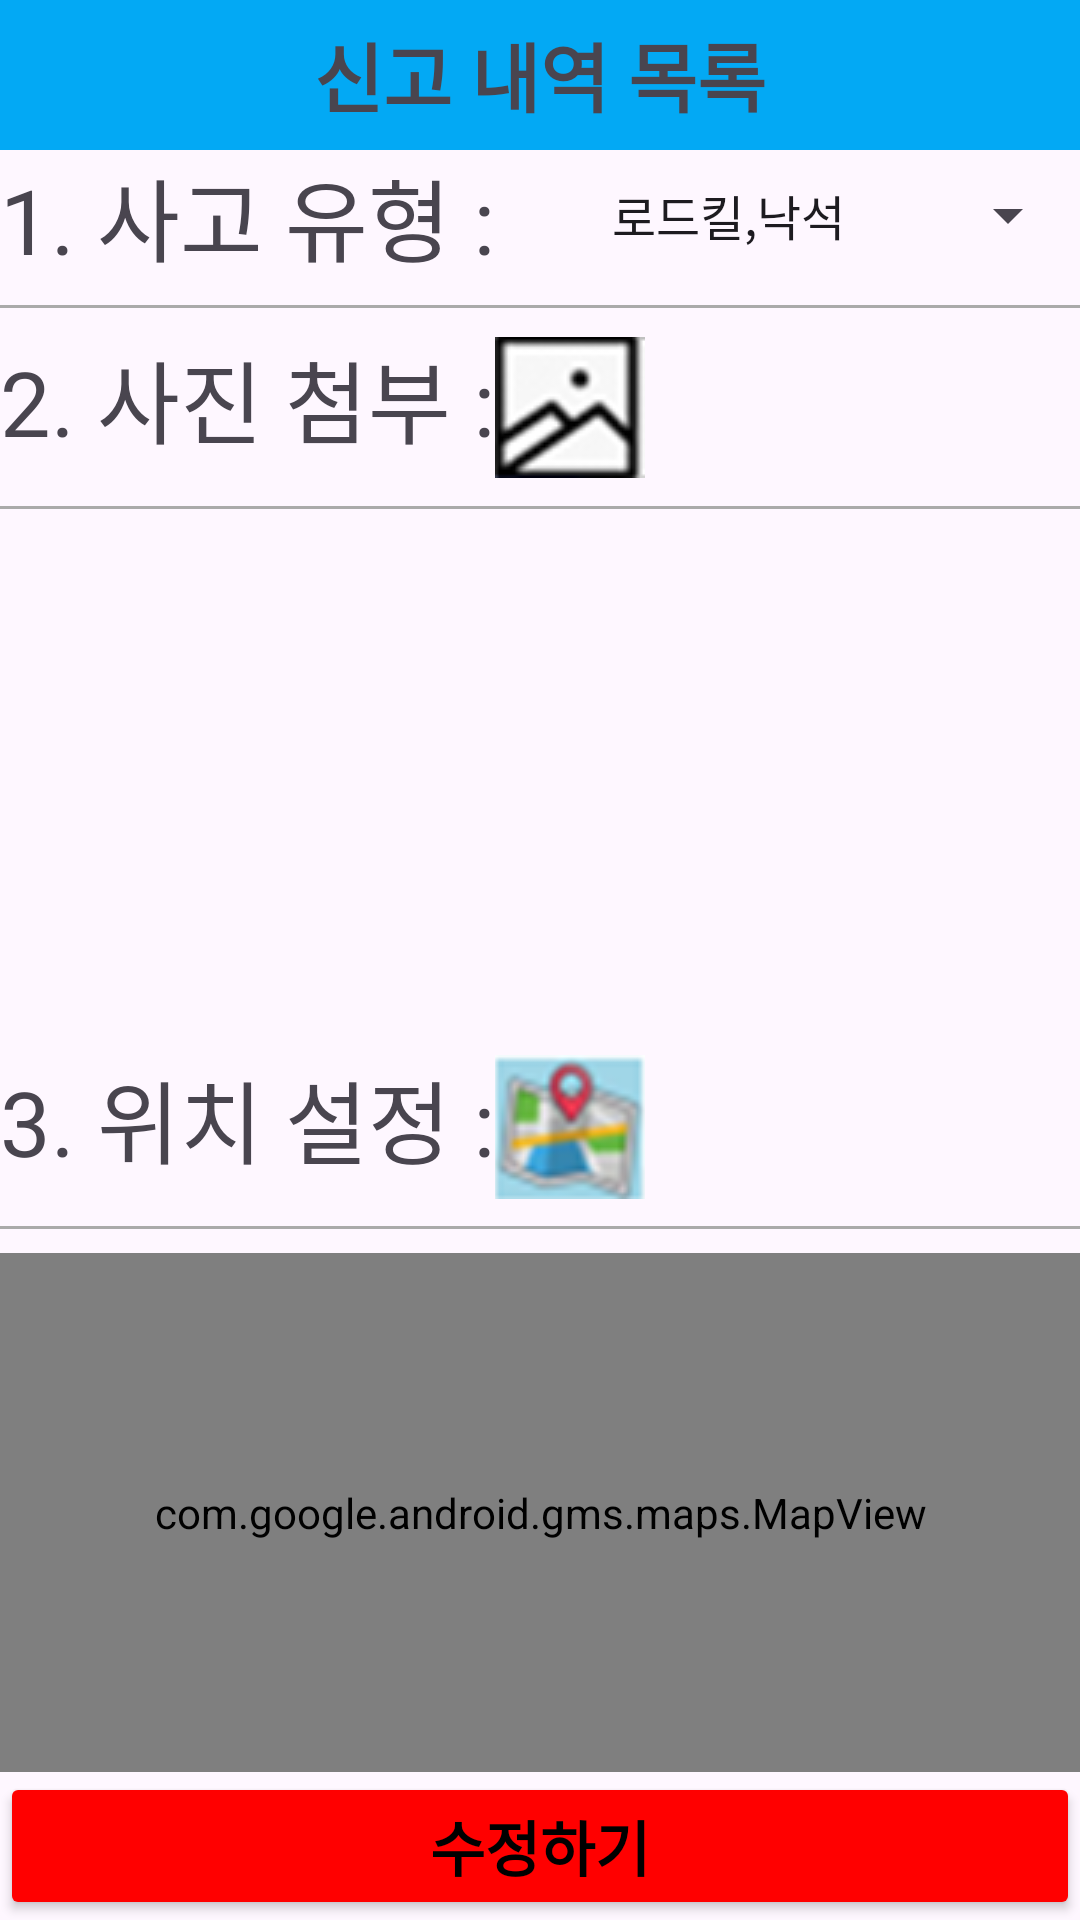

Icons on this 1080 × 1920 Android screen, each with the point to tap as (x=x, y=y):
edit location: (x=569, y=1128)
edit photo: (x=570, y=407)
